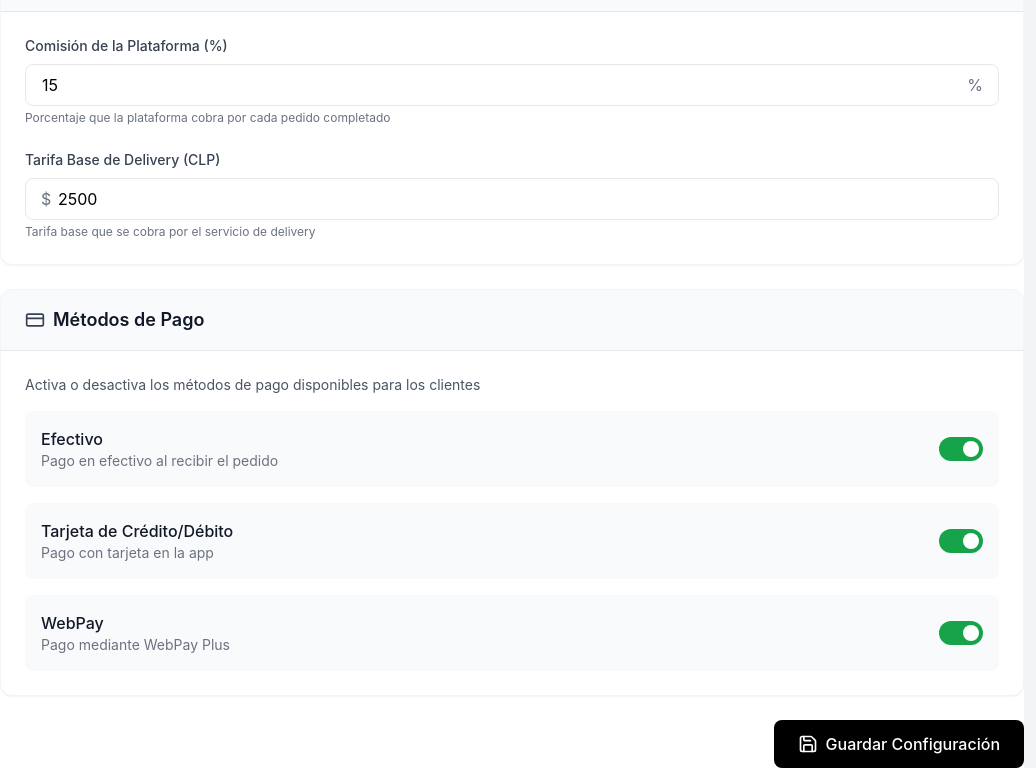
Test: Settings Component › Guardado de configuración › debe mostrar mensaje de éxito al guardar
(page scrolled)
Click the button "Guardar Configuración". click: (899, 744)
box: left=774, top=720, right=1024, bottom=767
(page scrolled)
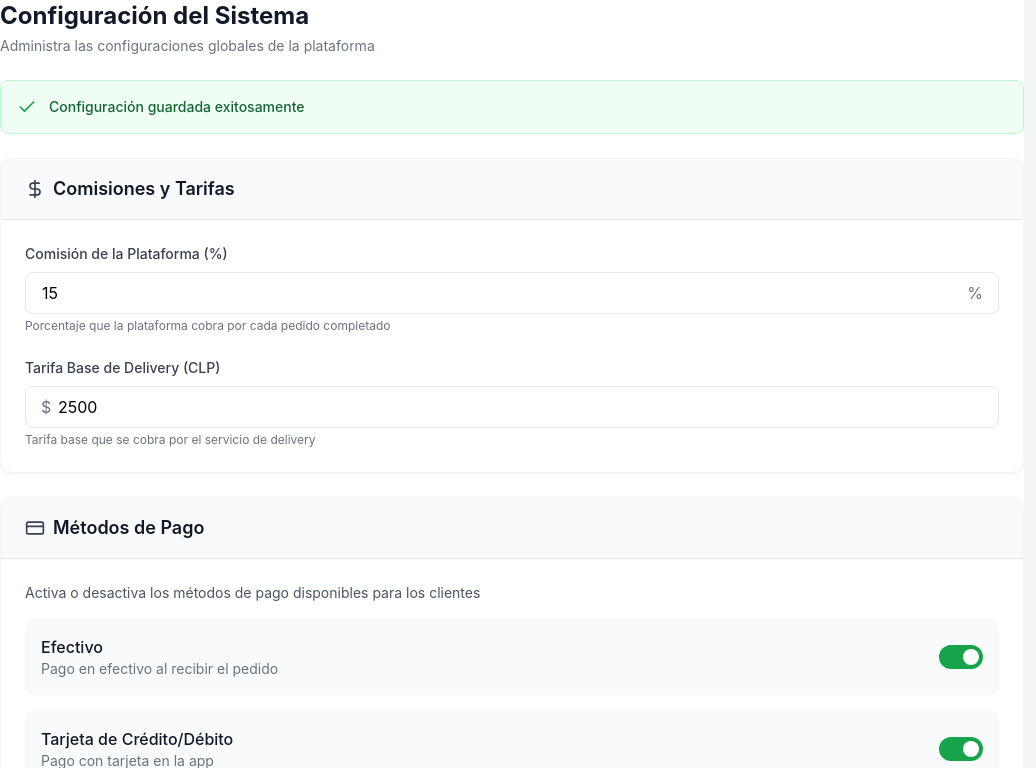
Expected: the text "Configuración guardada exitosamente" is shown, left=49, top=97, right=304, bottom=117
